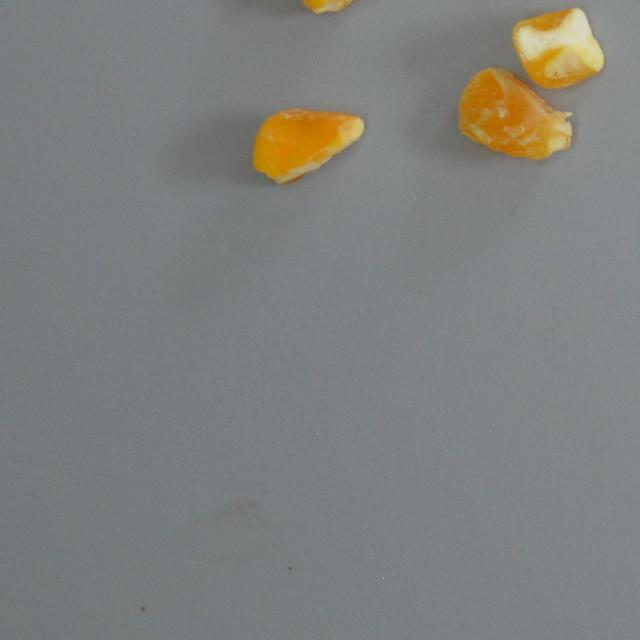no_canjicado: (510, 6, 603, 88)
pelicula: (456, 67, 580, 162), (250, 108, 364, 186), (277, 0, 370, 15)
